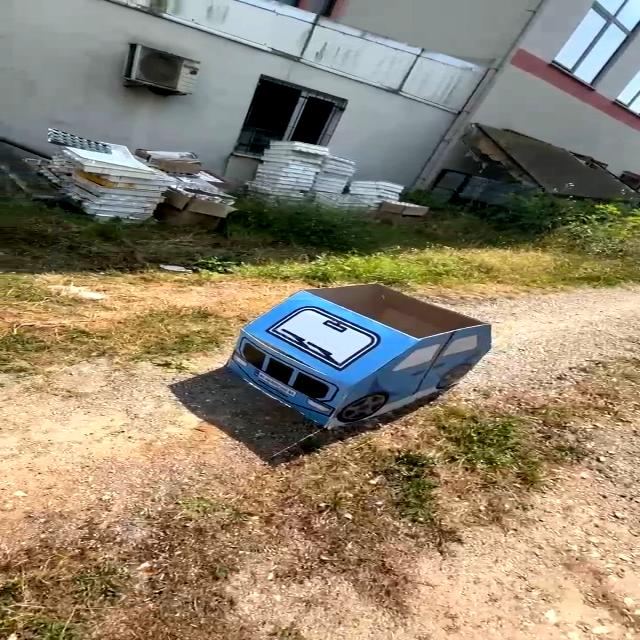blue_car: (190, 275, 518, 437)
